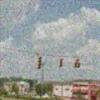traffic lights: (36, 55, 43, 69), (73, 58, 81, 69), (58, 57, 64, 68)
